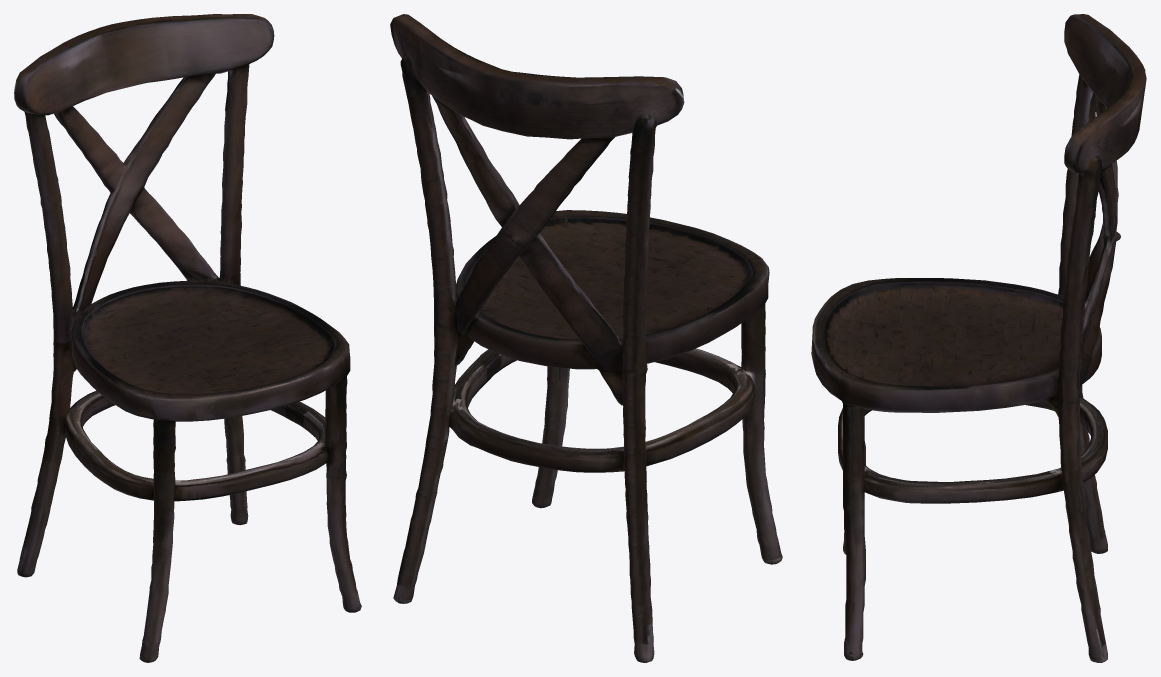
File: TUSCAN_CAFE_Wood_Chai_0403042230_texture.glb
The picture shows the model from 3 angles, left to right: view 1: azimuth 30°, elevation 25°; view 2: azimuth 150°, elevation 25°; view 3: azimuth 270°, elevation 25°; orthographic projection. The views are drawn at different scales.
Visible parts, largest first — view 1: Mesh_0; view 2: Mesh_0; view 3: Mesh_0.
Part boxes in pixels (box(x1,y1,x2,y2)): Mesh_0: box(14, 14, 361, 662); Mesh_0: box(390, 14, 782, 662); Mesh_0: box(811, 14, 1146, 662).
Size of the model in its own units: 0.4306 by 0.8128 by 0.4623.
1 material, 1 textured.
